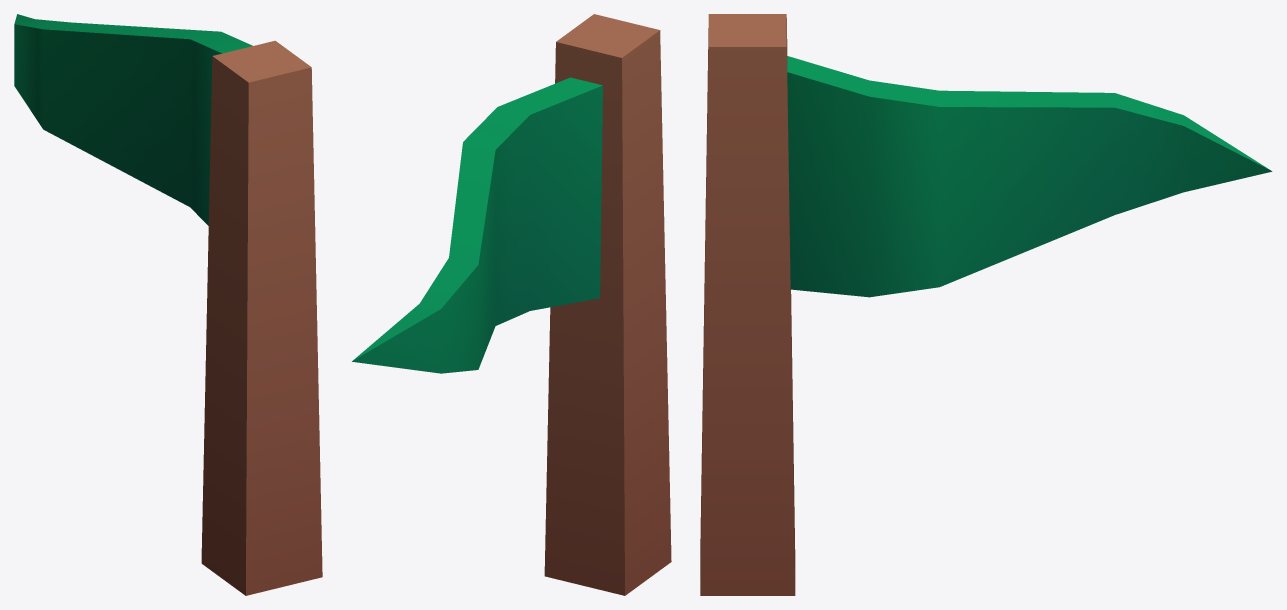
The model's file is flag_green.glb.
3 renders of one model, left to right at view 1: azimuth 30°, elevation 25°; view 2: azimuth 150°, elevation 25°; view 3: azimuth 270°, elevation 25°, orthographic. The views are drawn at different scales.
Parts seen in each view (by area): view 1: flag_green; view 2: flag_green; view 3: flag_green.
Boxes of the visible parts, x1,y1,x2,y2 form: flag_green: [14, 14, 322, 595]; flag_green: [352, 14, 671, 595]; flag_green: [700, 14, 1272, 595].
Bounding box in the file's own units: 0.055 × 0.2775 × 0.264.
Materials: 1 (1 with a texture image).
